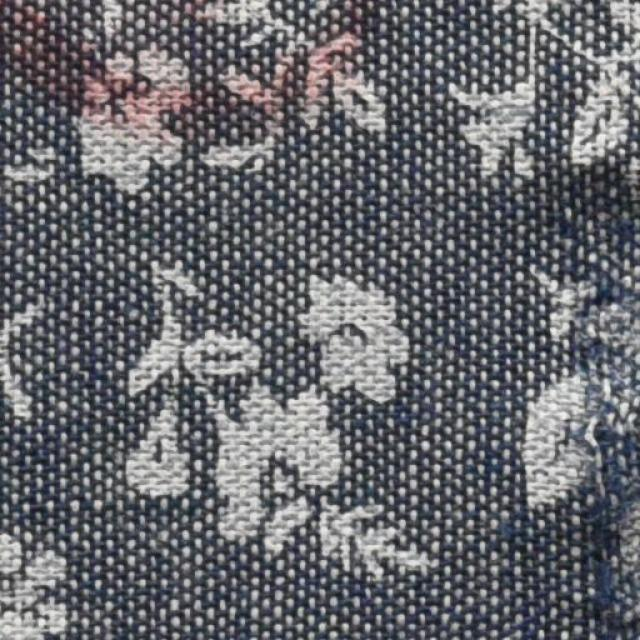Snag: (574, 207, 638, 632)
Stain: (0, 0, 382, 164)
